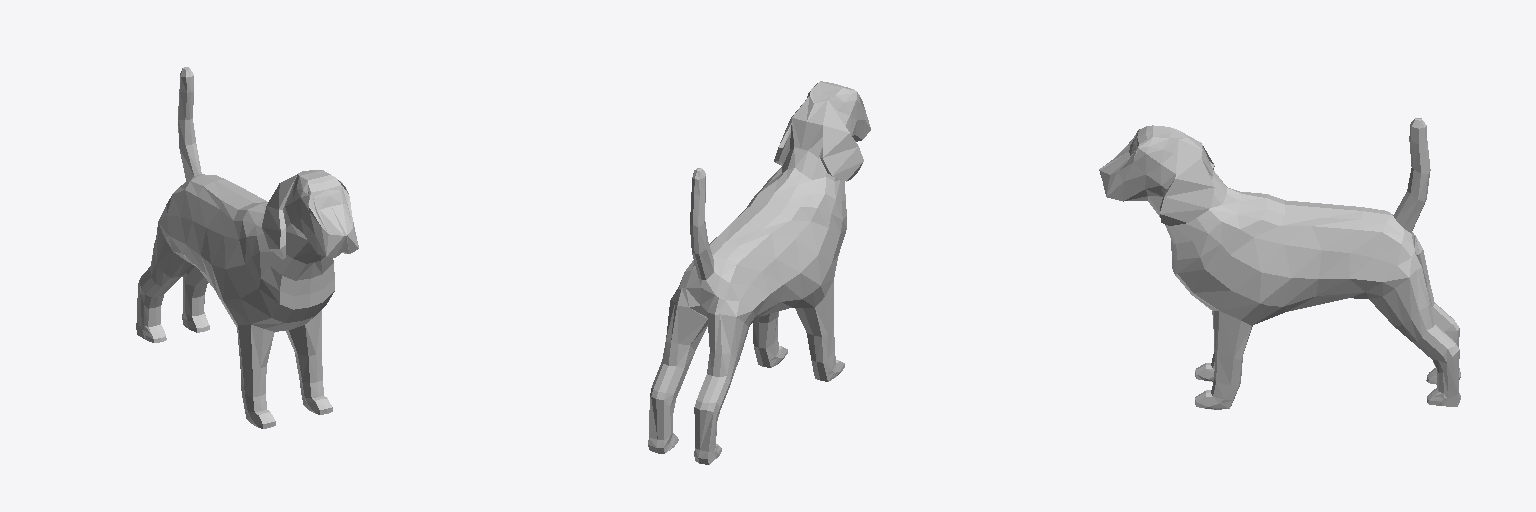
Rendered from Dog_model.obj.
3 renders of one model, left to right at view 1: azimuth 30°, elevation 25°; view 2: azimuth 150°, elevation 25°; view 3: azimuth 270°, elevation 25°, orthographic.
Visible parts, largest first — view 1: Dog_Plane; view 2: Dog_Plane; view 3: Dog_Plane.
Boxes of the visible parts, box(x1,y1,x2,y2) form: Dog_Plane: box(136, 67, 358, 428); Dog_Plane: box(648, 81, 870, 464); Dog_Plane: box(1099, 118, 1460, 409).
Size of the model in its own units: 0.4617 by 1.42 by 1.69.